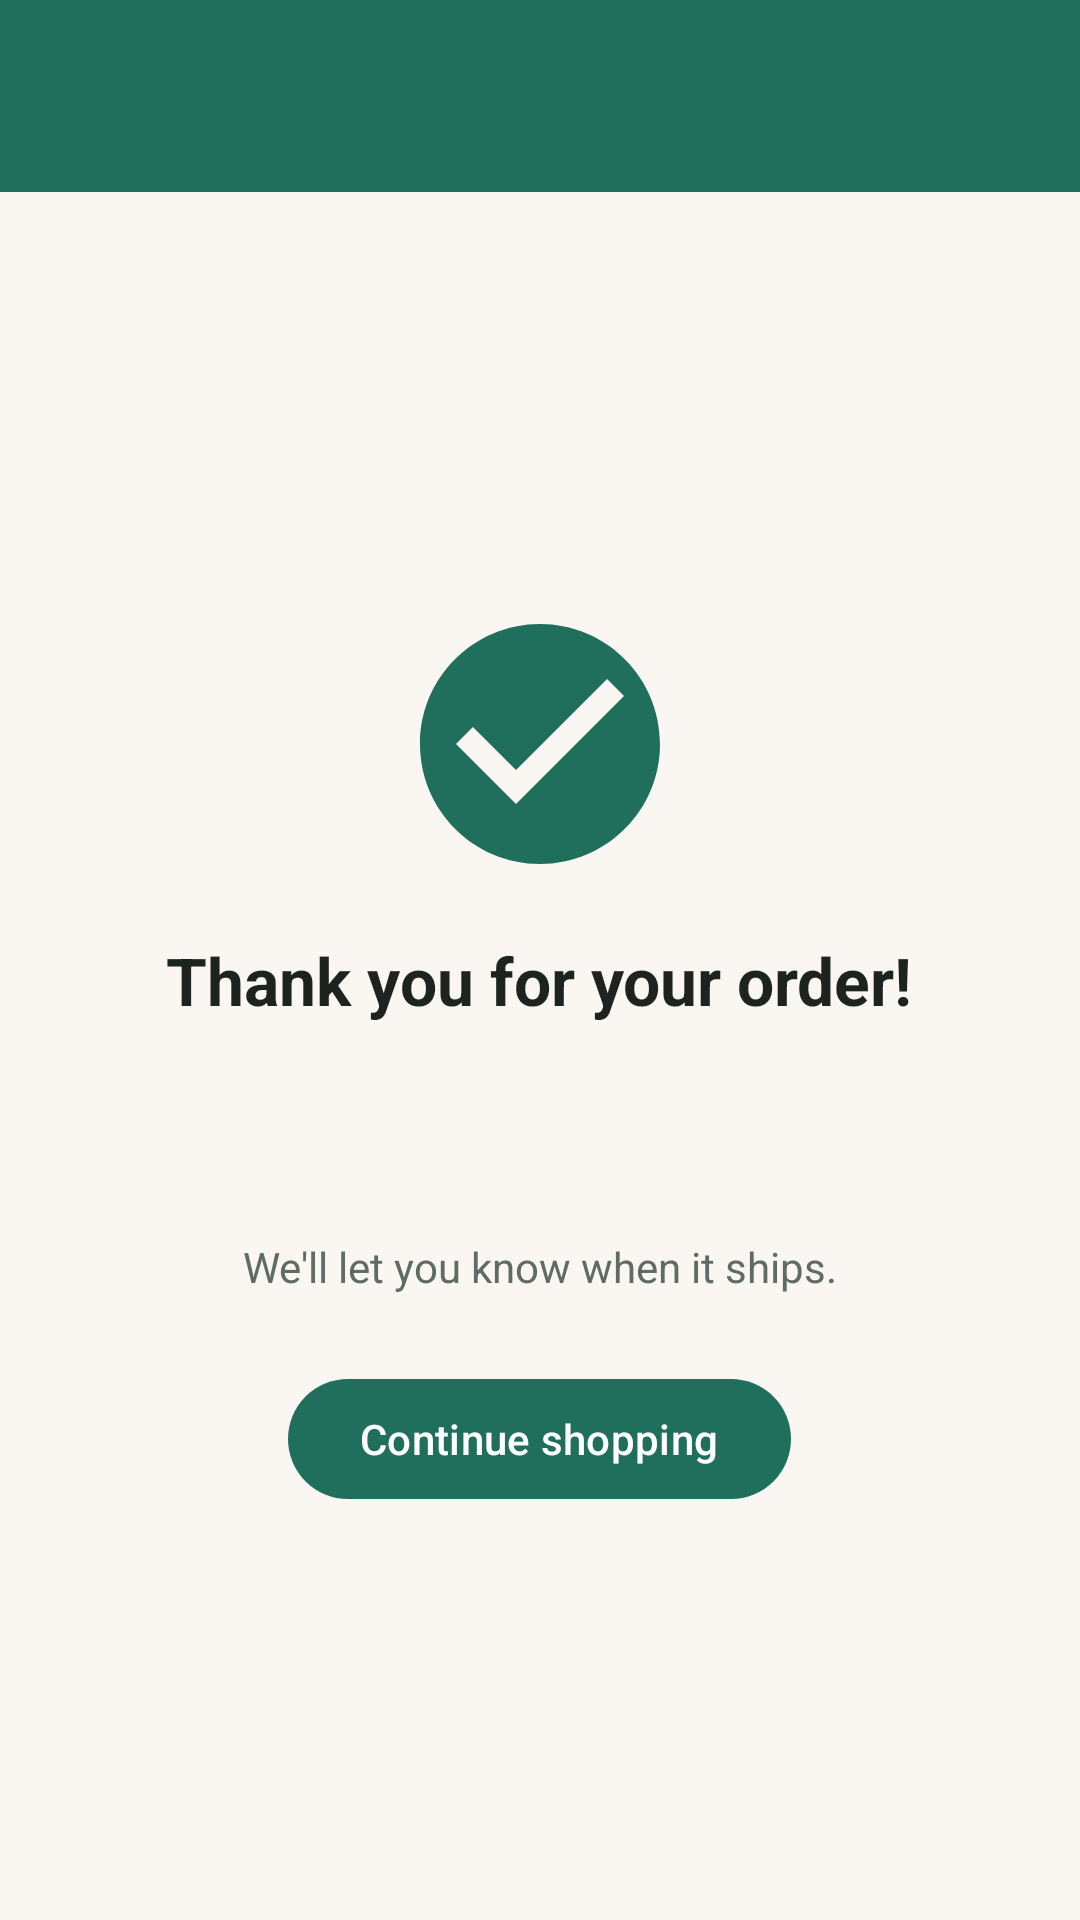

Named icons in this screenshot (1080px x 1920px) and their bounding boxes, (x1, y1, x2, y2):
check circle: (420, 624, 660, 864)
